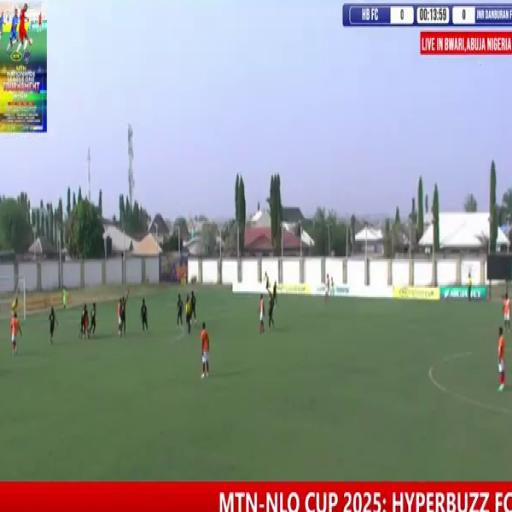referee: (184, 296, 191, 336)
team1: (492, 326, 508, 390), (198, 316, 211, 380), (502, 289, 511, 336), (256, 292, 266, 334), (11, 314, 20, 354), (116, 296, 122, 336), (86, 300, 90, 342)
team2: (44, 303, 62, 344), (264, 286, 276, 338), (174, 284, 182, 328), (91, 291, 98, 337), (140, 296, 148, 334), (190, 290, 198, 322), (122, 298, 128, 336), (81, 297, 85, 342)
